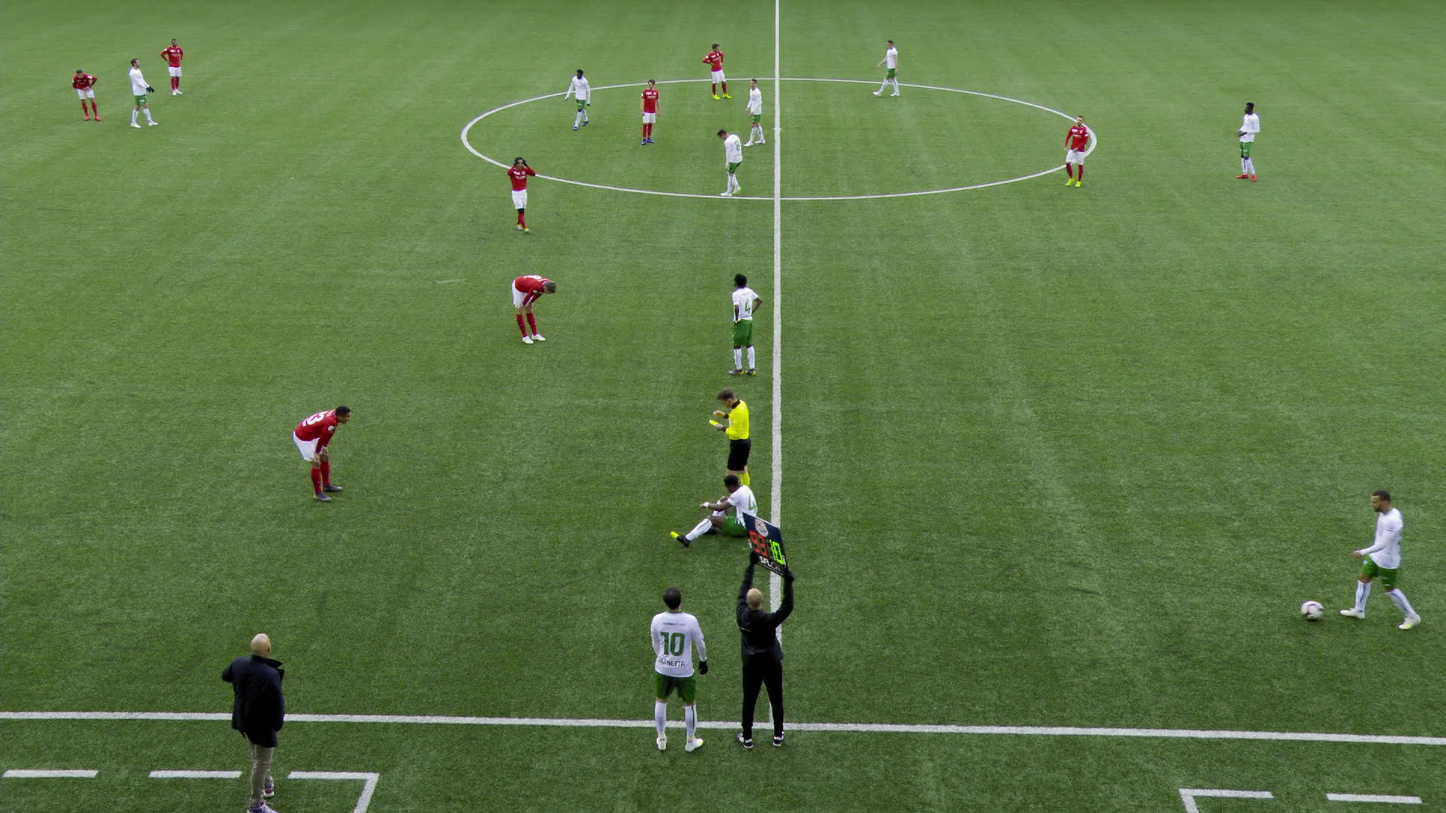ball: (1308, 599, 1333, 621)
player: (1338, 487, 1424, 633), (637, 586, 706, 757), (668, 473, 757, 551), (292, 400, 352, 502), (723, 271, 764, 378), (508, 273, 556, 346), (125, 56, 160, 129), (1233, 102, 1264, 184), (505, 155, 536, 235), (1061, 114, 1094, 189), (715, 126, 745, 198), (562, 66, 593, 132), (700, 42, 732, 101), (873, 36, 901, 97), (741, 78, 766, 146), (71, 68, 101, 121), (639, 80, 661, 148), (160, 38, 184, 96)
referee: (707, 385, 751, 492)
